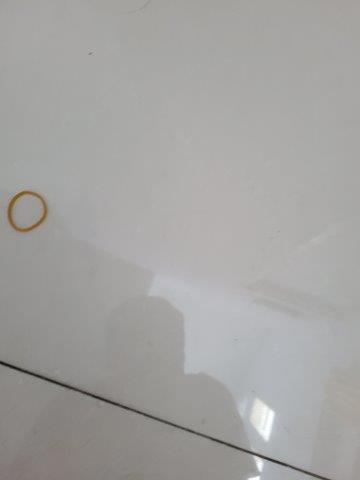karet: (5, 189, 48, 234)
